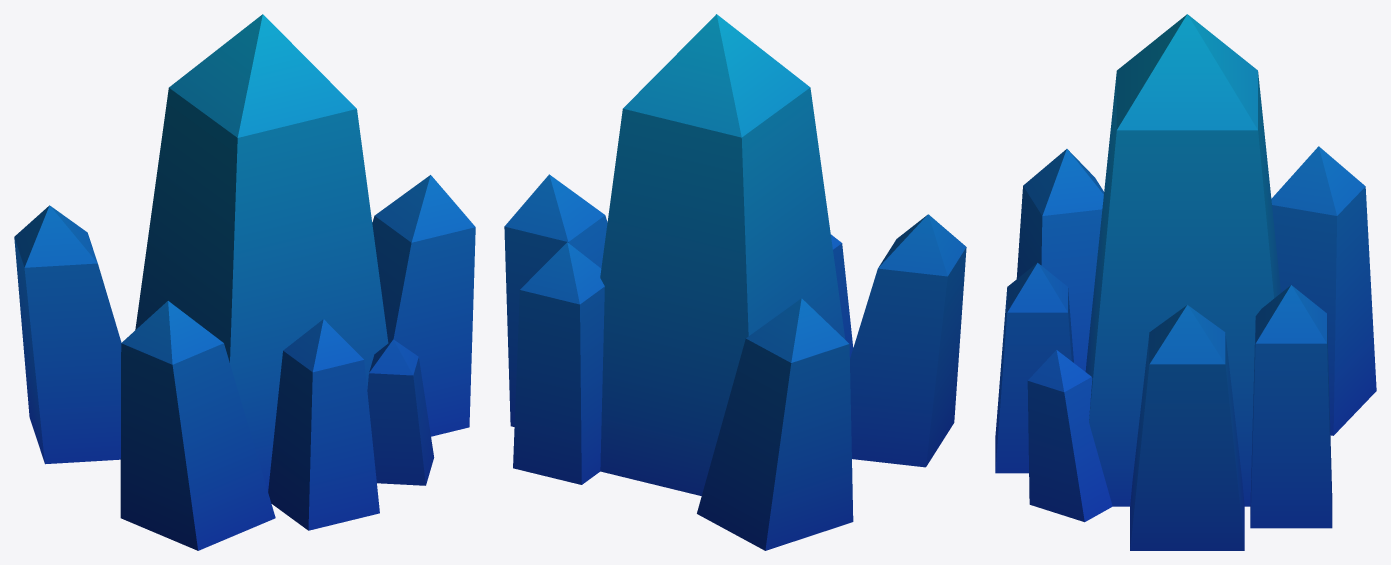
Rendered from Crystal_6.glb.
The picture shows the model from 3 angles, left to right: view 1: azimuth 30°, elevation 25°; view 2: azimuth 150°, elevation 25°; view 3: azimuth 270°, elevation 25°; orthographic projection. The views are drawn at different scales.
Visible parts, largest first — view 1: crystal_26; view 2: crystal_26; view 3: crystal_26.
Part boxes in pixels (bbox=[...]): crystal_26: bbox=[14, 14, 475, 550]; crystal_26: bbox=[504, 14, 966, 550]; crystal_26: bbox=[995, 14, 1376, 550].
Size of the model in its own units: 6.39 by 6.99 by 5.4.
